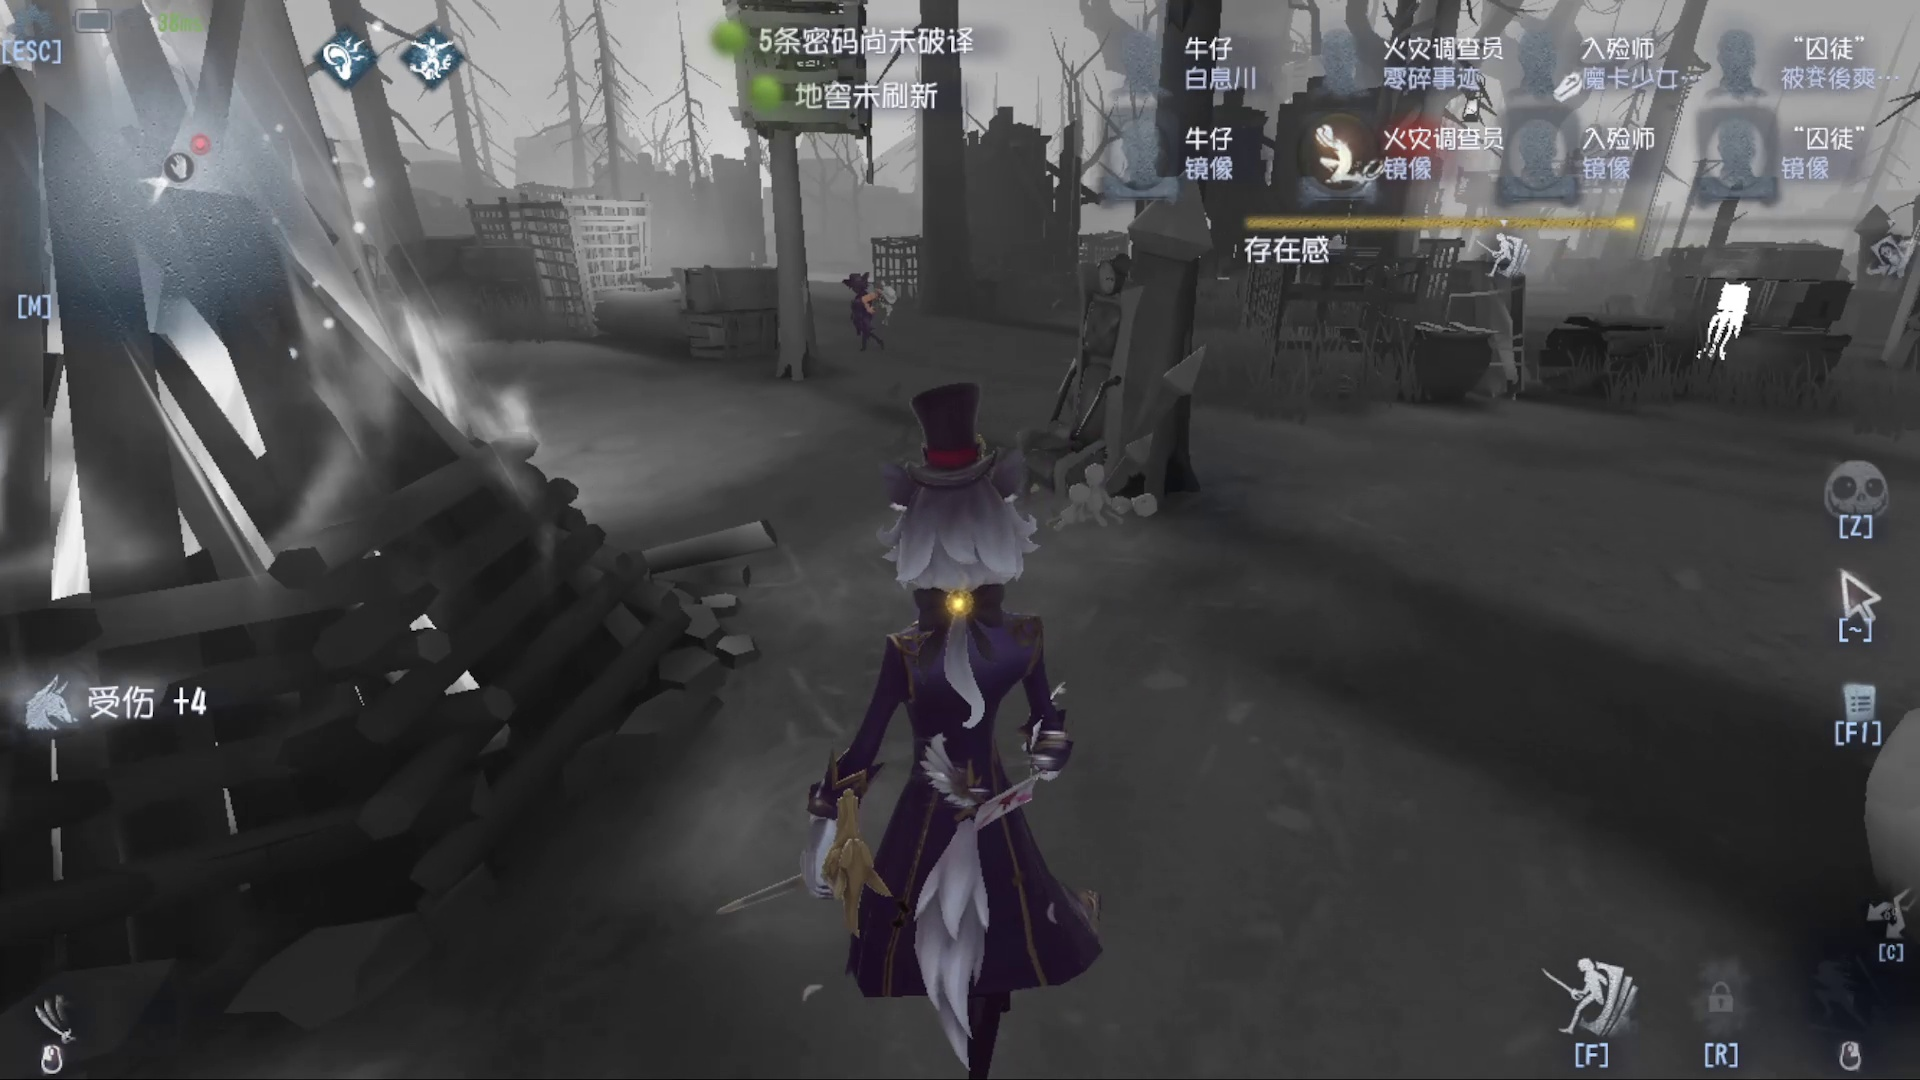木板: (1418, 227, 1524, 426)
求生者: (824, 260, 902, 361)
狂欢之椅: (1011, 202, 1174, 520)
